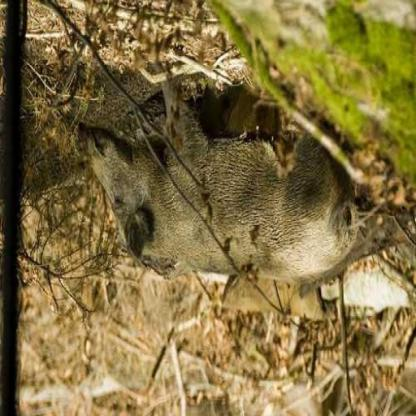boar: (77, 86, 358, 291)
